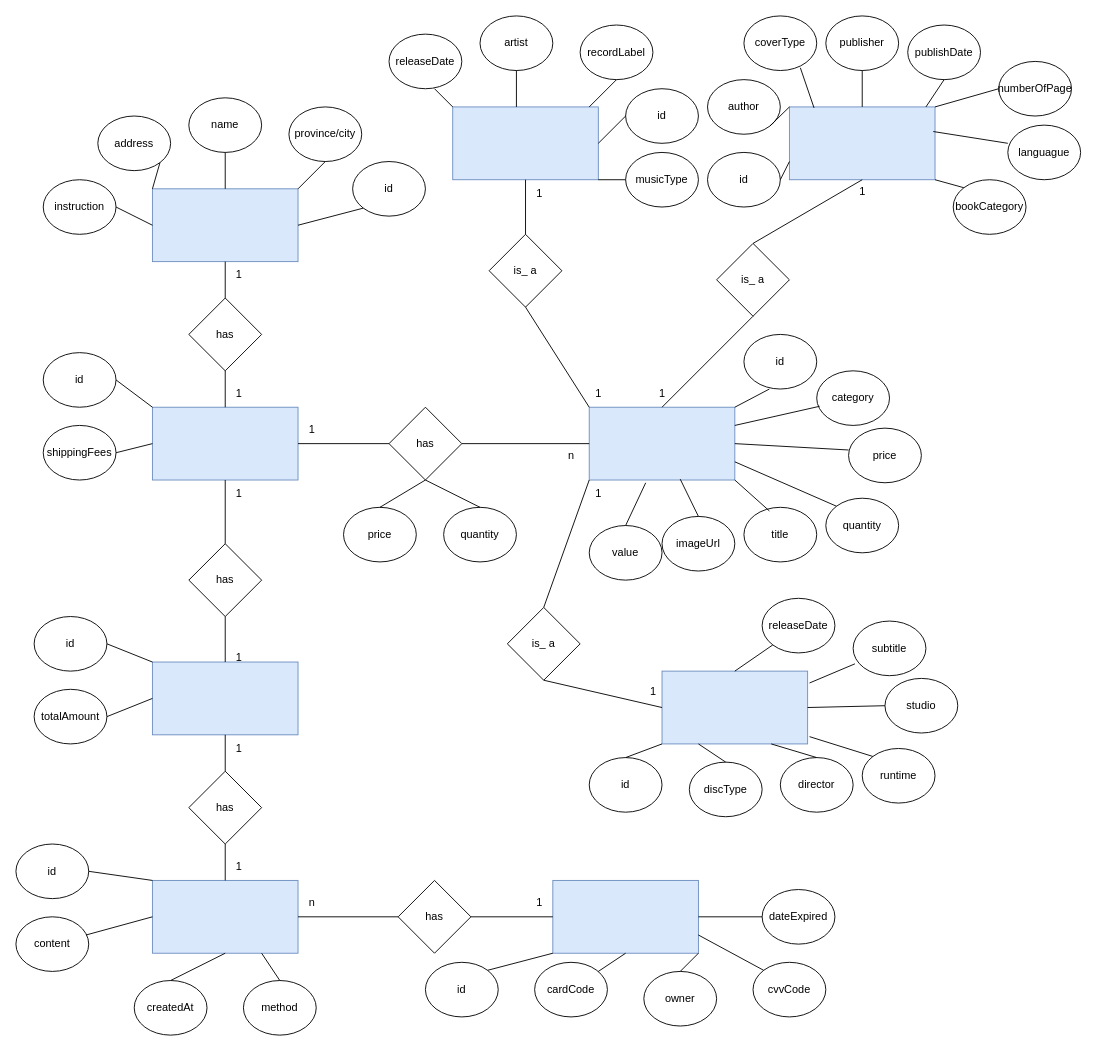
This 1097x1051 diagram has some shape labels left out. Here are the shapes that lost their labels. From the top down, the centre of each, then its label:
At (525,143): "CD".
At (862,143): "Book".
At (225,225): "DeliveryInfo".
At (225,443): "Order".
At (661,443): "Media".
At (225,698): "Invoice".
At (734,707): "DVD".
At (225,916): "PaymentTransacstion".
At (625,916): "Card".
